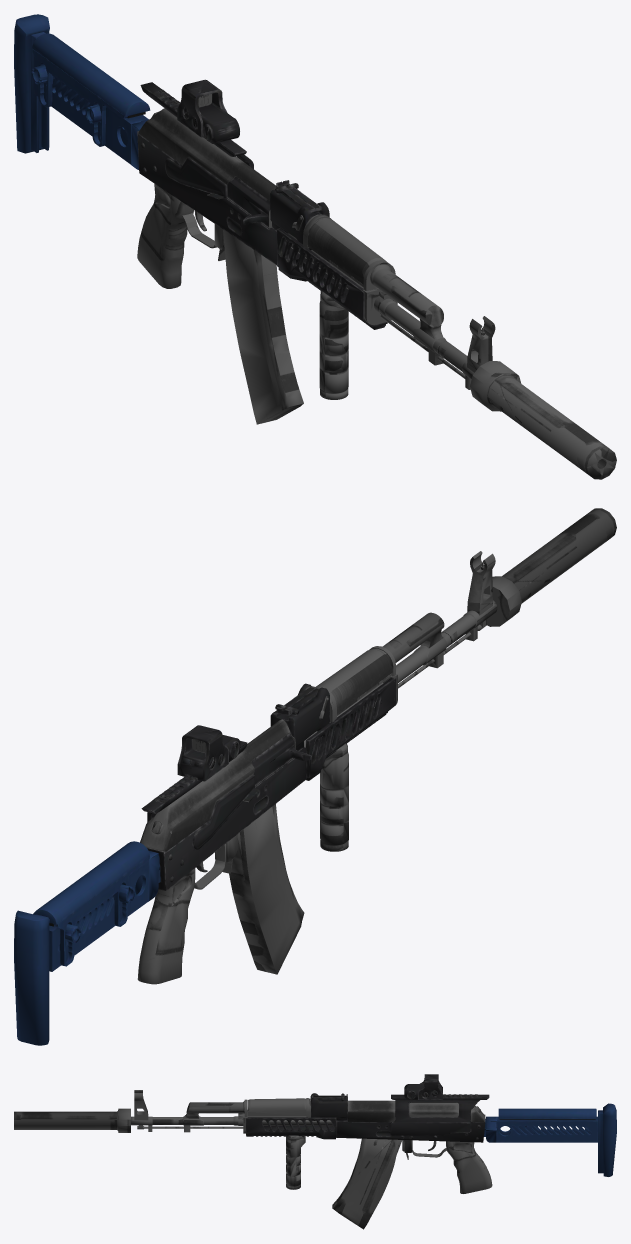
File: r5_blue.glb
3 views of the same model, one above another, from view 1: azimuth 30°, elevation 25°; view 2: azimuth 150°, elevation 25°; view 3: azimuth 270°, elevation 25° (orthographic). The views are drawn at different scales.
Visible parts, largest first — view 1: body; view 2: body; view 3: body.
Part boxes in pixels (bbox=[...]): body: bbox=[14, 14, 616, 479]; body: bbox=[14, 508, 616, 1045]; body: bbox=[14, 1074, 616, 1229].
Size of the model in its own units: 0.0485 by 0.2472 by 0.9.
8 materials, 8 textured.
